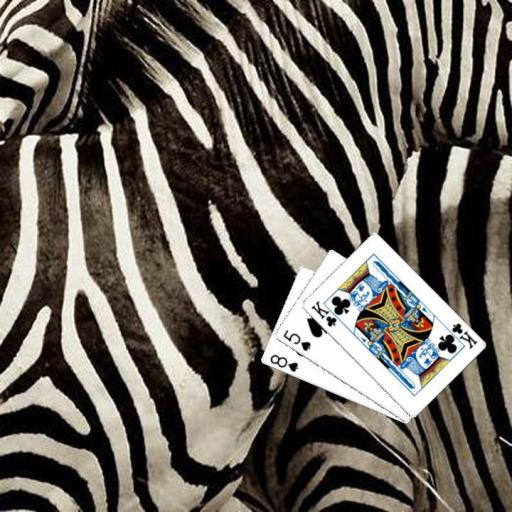5S: (280, 327, 312, 353)
8S: (267, 352, 300, 374)
KC: (442, 319, 479, 351), (308, 297, 344, 329)
